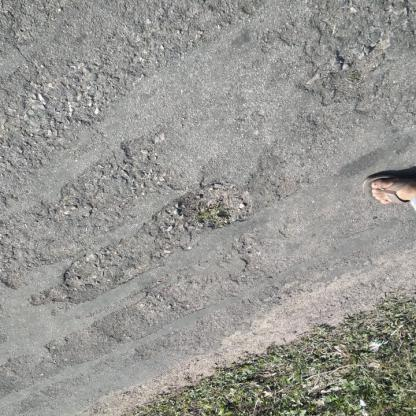pothole: (167, 180, 252, 233)
